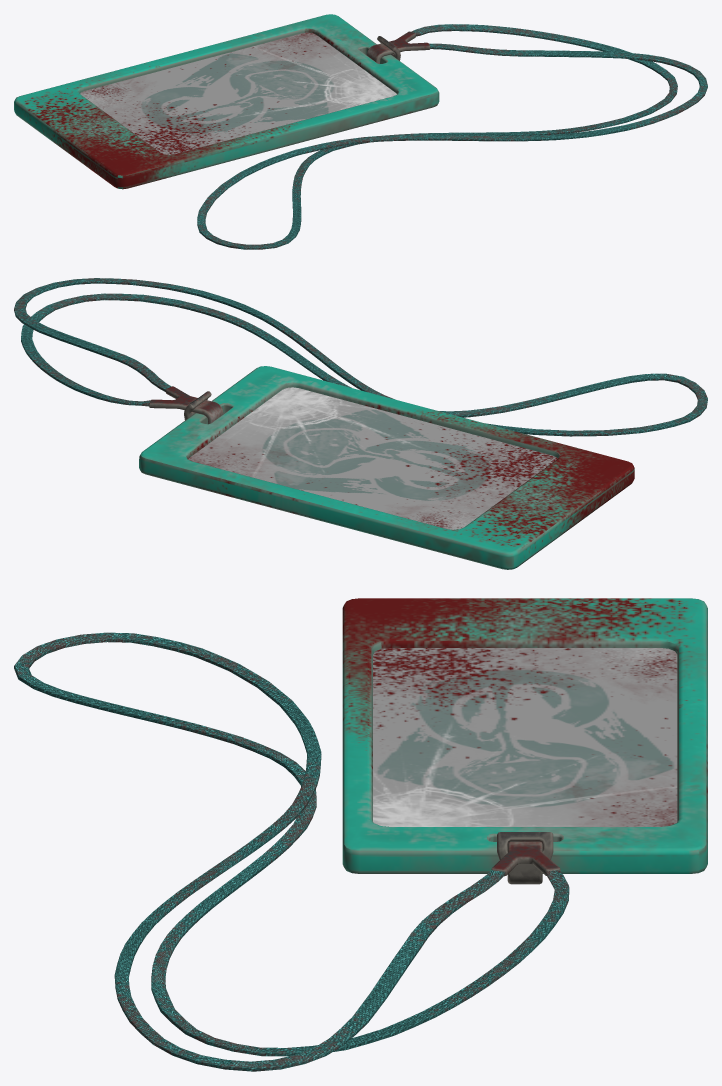
File: CardKey.fbx
3 renders of one model, top to bottom at view 1: azimuth 30°, elevation 25°; view 2: azimuth 150°, elevation 25°; view 3: azimuth 270°, elevation 25°, orthographic. The views are drawn at different scales.
Visible parts, largest first — view 1: Plane.018; view 2: Plane.018; view 3: Plane.018.
Boxes of the visible parts, x1,y1,x2,y2 form: Plane.018: (14,14,707,249); Plane.018: (14,278,707,569); Plane.018: (14,598,707,1071).
Bounding box in the file's own units: 0.0814 × 0.0524 × 0.00454.
